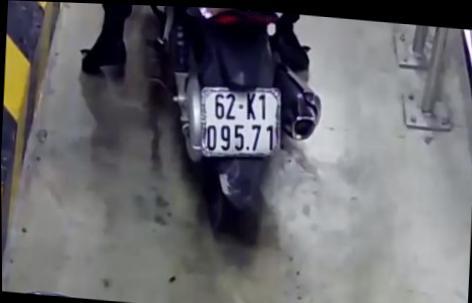LP: (196, 76, 286, 162)
